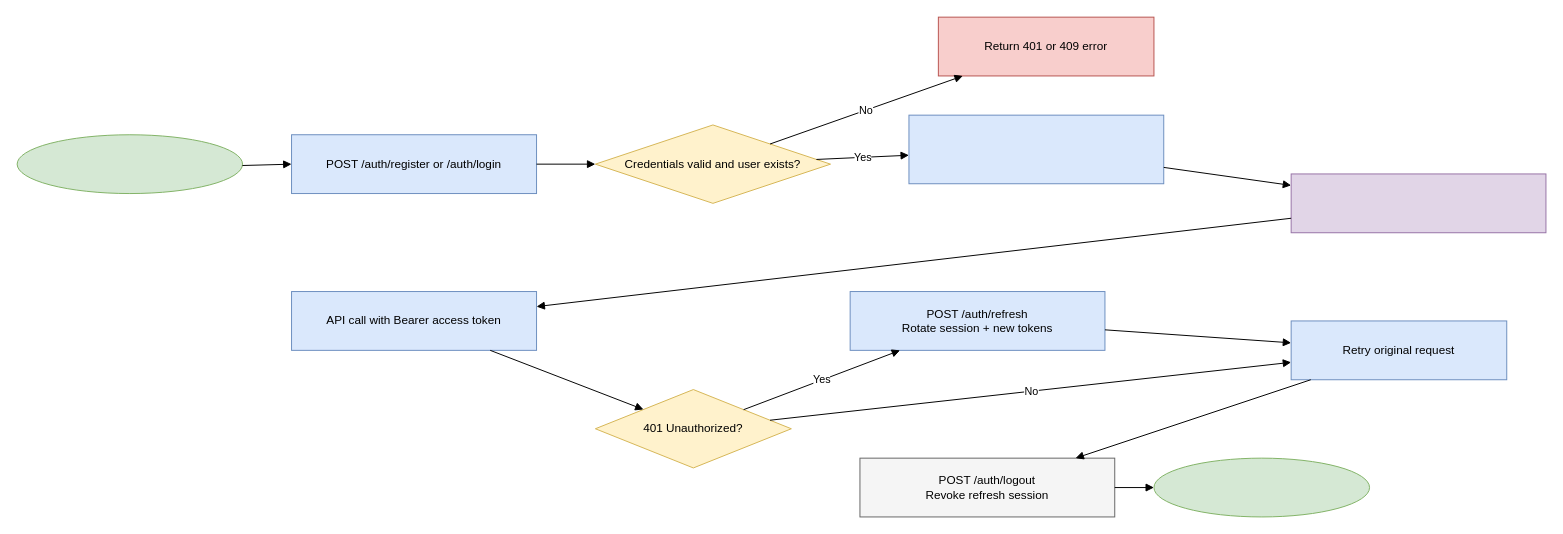
Image size: 1563x534. Some labels were removed from this diagram. The shapes that lost their labels are listed below. From the top down, each one's box as (x1, y1, x2, y2) in pixels, then its label:
(16, 134, 243, 194): User submits register or login
(908, 114, 1164, 184): Issue access token + refresh token Store refresh session hash
(1290, 173, 1546, 233): Client stores tokens localStorage/cookies or AsyncStorage
(1153, 457, 1370, 517): Client clears tokens
